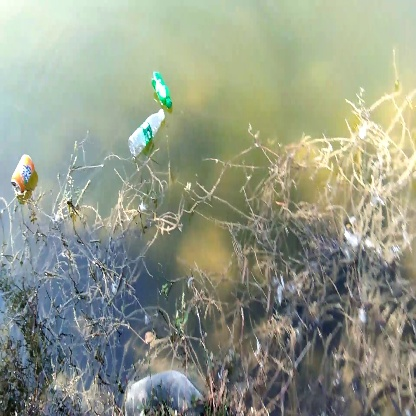bottle: (125, 108, 167, 163), (8, 153, 37, 201)
